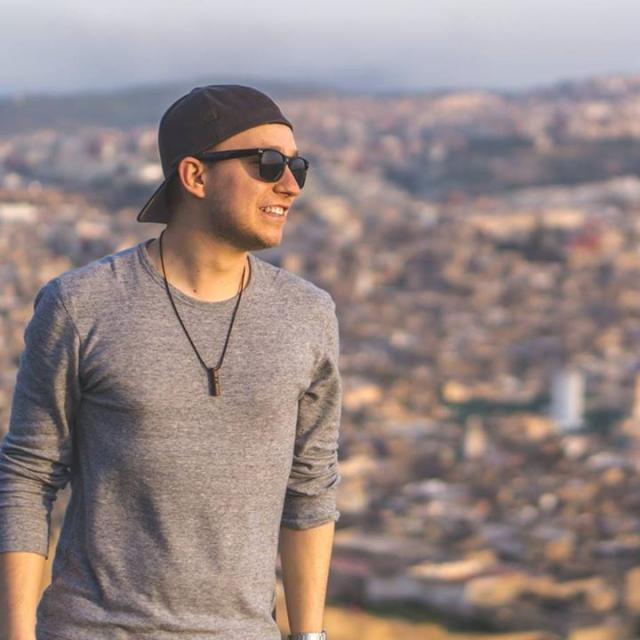adult: (0, 80, 341, 640)
